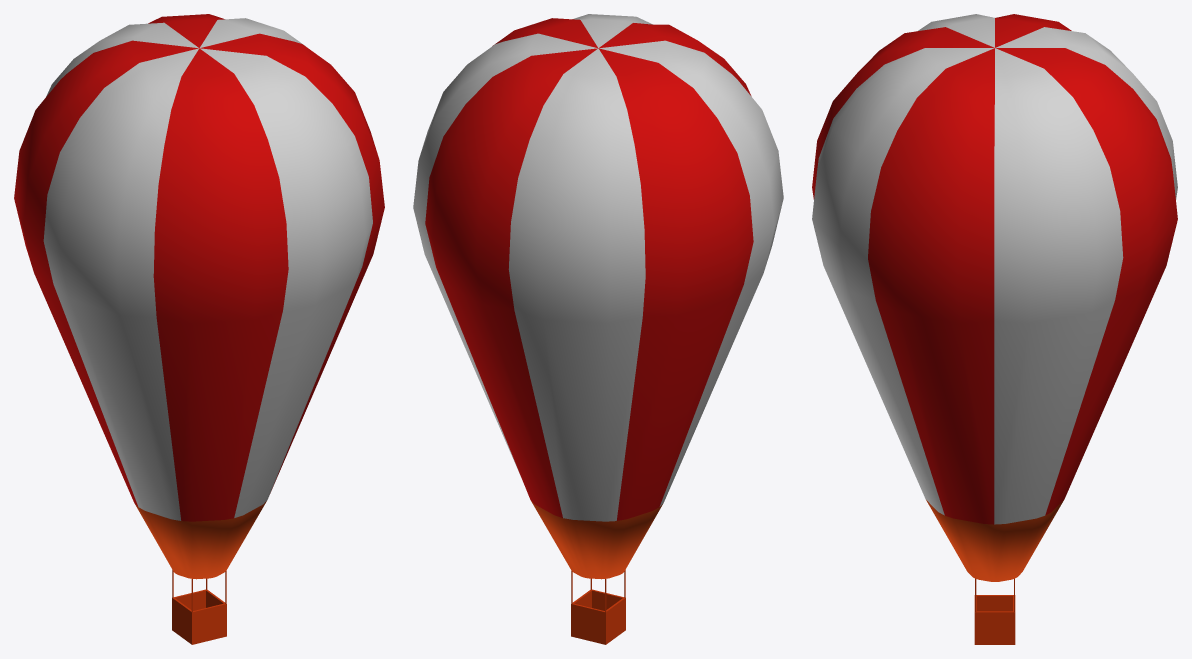
The model's file is Hot Air Balloon.fbx.
3 views of the same model, side by side, from view 1: azimuth 30°, elevation 25°; view 2: azimuth 150°, elevation 25°; view 3: azimuth 270°, elevation 25° (orthographic).
Parts seen in each view (by area): view 1: Hot Air Balloon; view 2: Hot Air Balloon; view 3: Hot Air Balloon.
Boxes of the visible parts, x1=… form: Hot Air Balloon: x1=14, y1=14, x2=384, y2=644; Hot Air Balloon: x1=413, y1=14, x2=783, y2=644; Hot Air Balloon: x1=812, y1=14, x2=1177, y2=644.
Bounding box in the file's own units: 1606 × 1605 × 2849.
